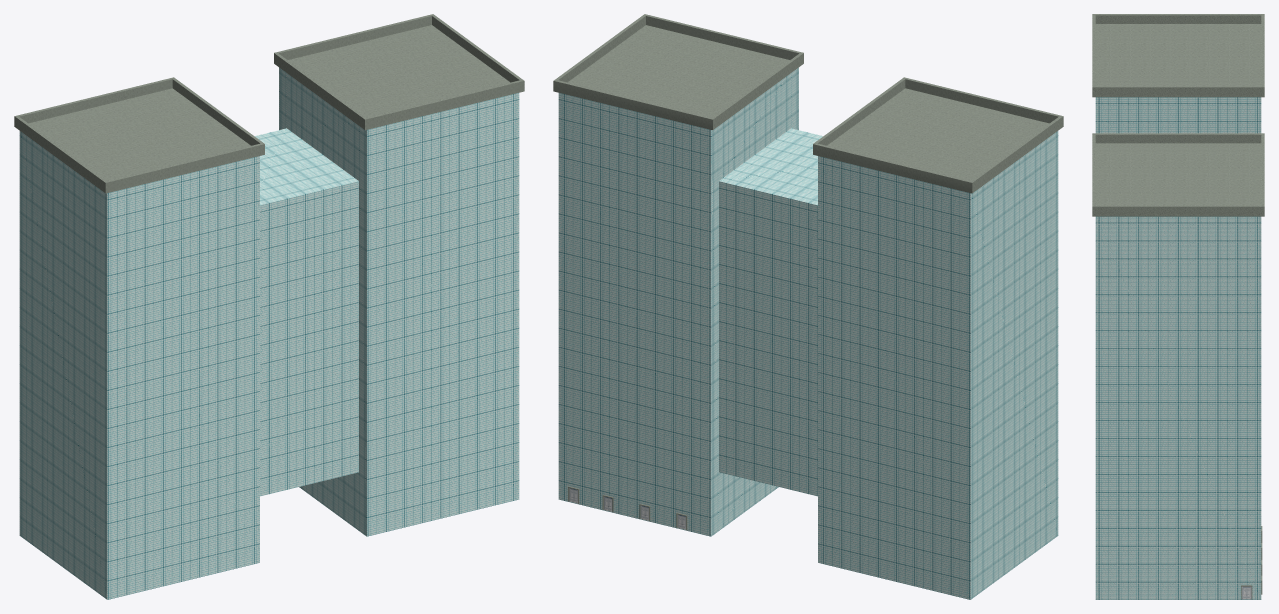
File: BGN_WHITE BUILD TWIN.fbx
3 views of the same model, side by side, from view 1: azimuth 30°, elevation 25°; view 2: azimuth 150°, elevation 25°; view 3: azimuth 270°, elevation 25° (orthographic). The views are drawn at different scales.
Visible parts, largest first — view 1: BGN_WHITE_BUILD_TWIN; view 2: BGN_WHITE_BUILD_TWIN; view 3: BGN_WHITE_BUILD_TWIN.
Boxes of the visible parts, bbox=[...] form: BGN_WHITE_BUILD_TWIN: bbox=[14, 14, 524, 599]; BGN_WHITE_BUILD_TWIN: bbox=[553, 14, 1063, 599]; BGN_WHITE_BUILD_TWIN: bbox=[1092, 14, 1264, 599].
Bounding box in the file's own units: 9200 × 8798 × 3473.
